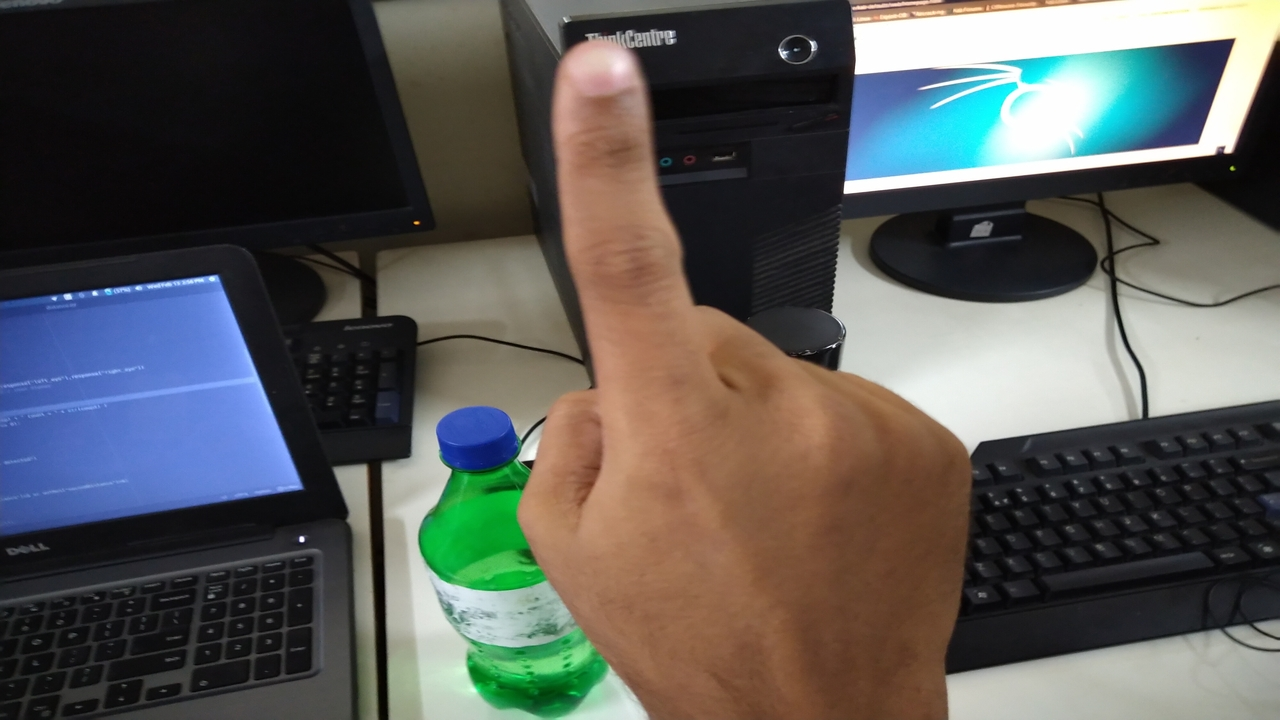fingertip: (552, 36, 650, 114)
